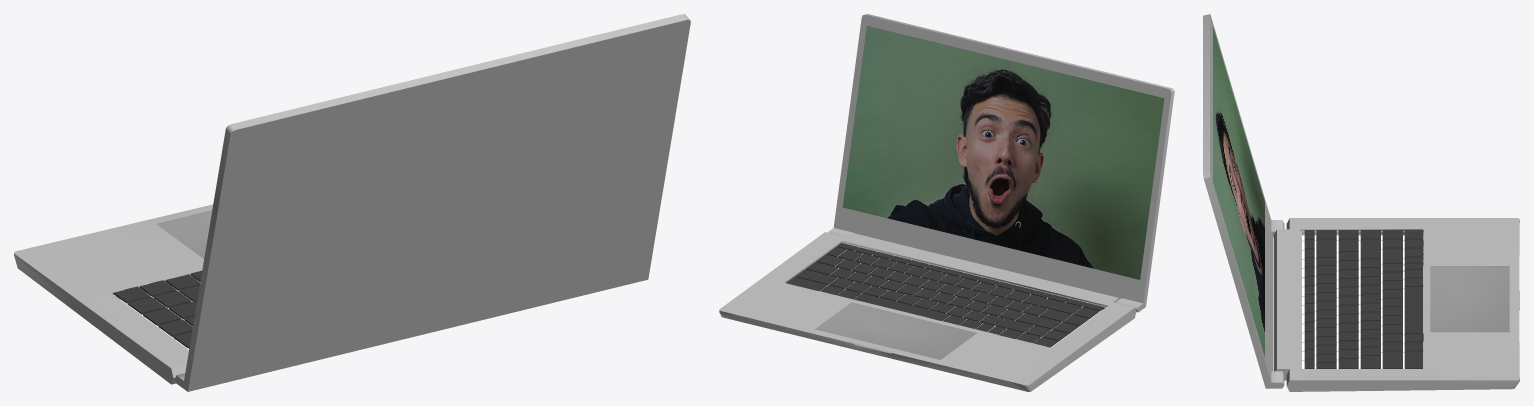
The model's file is laptop.glb.
The picture shows the model from 3 angles, left to right: view 1: azimuth 30°, elevation 25°; view 2: azimuth 150°, elevation 25°; view 3: azimuth 270°, elevation 25°; orthographic projection. The views are drawn at different scales.
Visible parts, largest first — view 1: tampa, portátil, teclado; view 2: tampa, portátil, teclado, proteção luz teclado; view 3: portátil, teclado, tampa, proteção luz teclado.
Part boxes in pixels (left/top/right/bottom): tampa: left=175, top=14, right=690, bottom=391; portátil: left=14, top=204, right=213, bottom=384; teclado: left=113, top=270, right=202, bottom=348; tampa: left=828, top=14, right=1174, bottom=312; portátil: left=719, top=232, right=1135, bottom=391; teclado: left=786, top=243, right=1104, bottom=347; proteção luz teclado: left=795, top=242, right=1105, bottom=341; portátil: left=1273, top=218, right=1519, bottom=391; teclado: left=1304, top=230, right=1423, bottom=368; tampa: left=1203, top=14, right=1284, bottom=388; proteção luz teclado: left=1300, top=231, right=1404, bottom=368.
Size of the model in its own units: 0.3568 by 0.222 by 0.2938.
5 materials, 1 textured.
